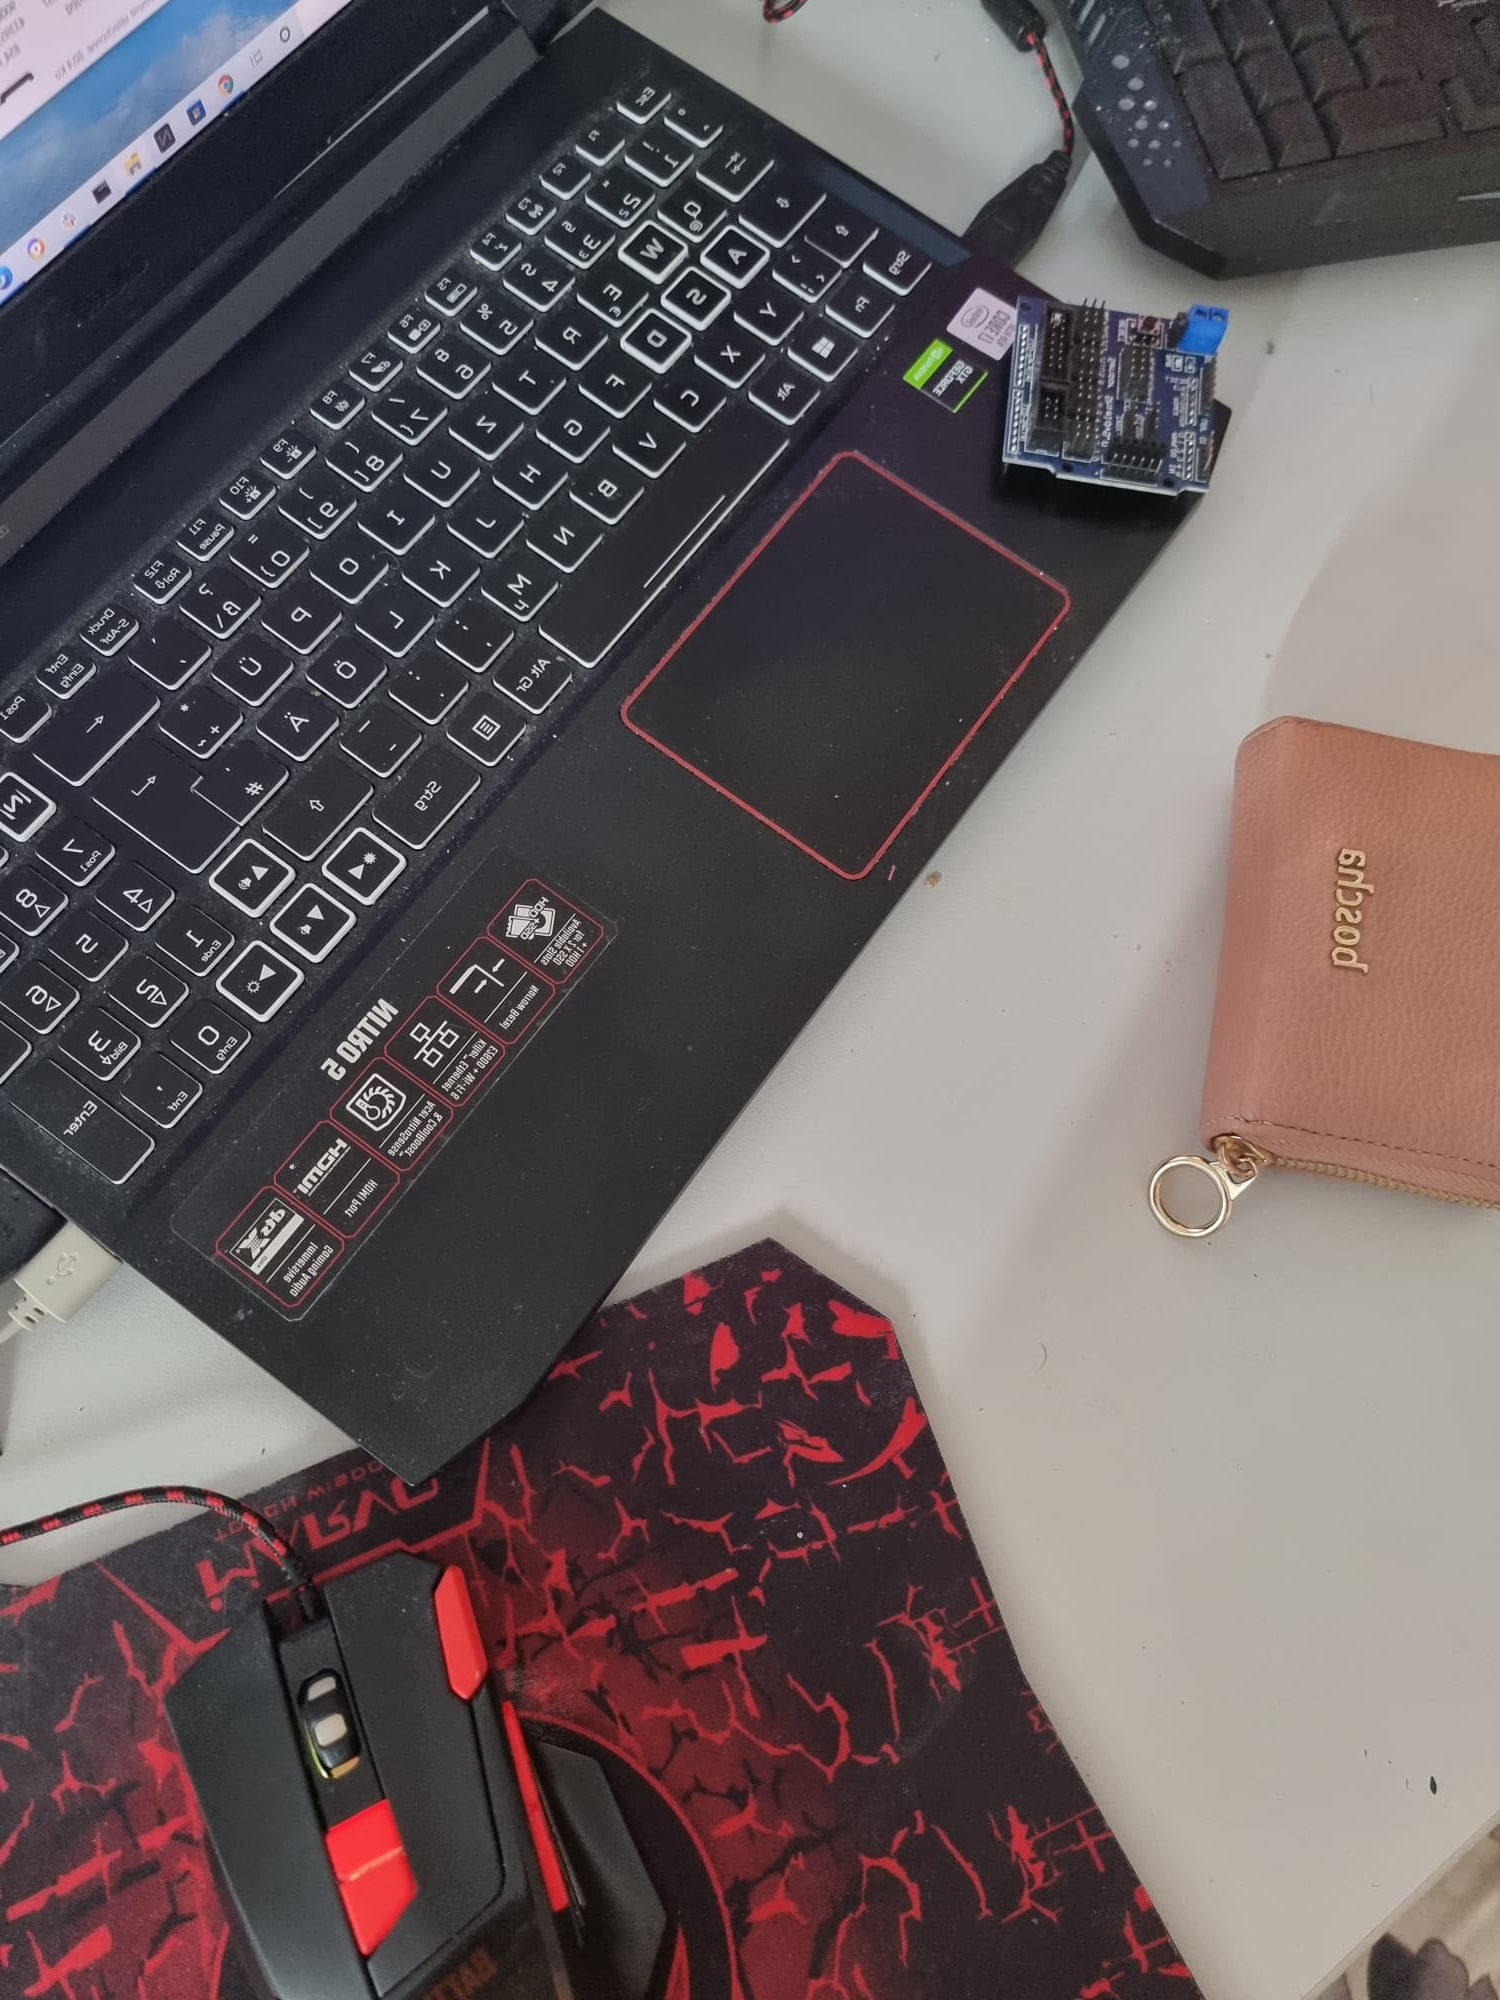5V EXPANSION: (999, 294, 1234, 513)
